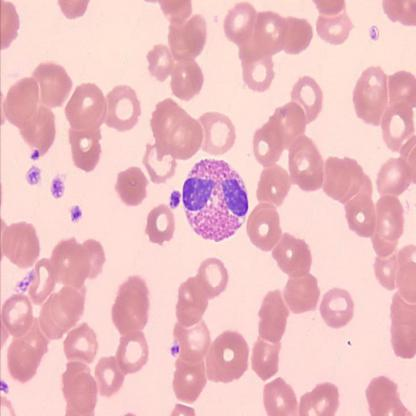Eosinophil: (184, 158, 248, 244)
